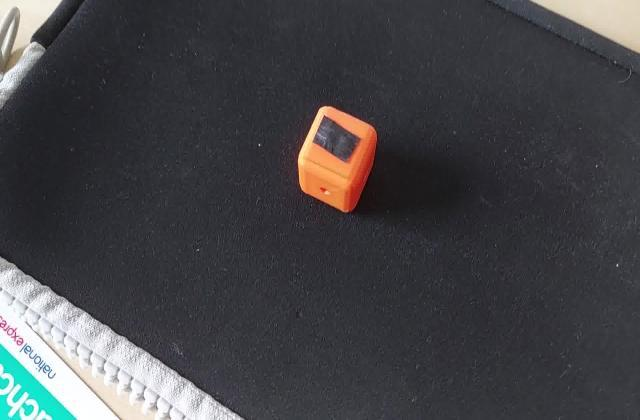black: (313, 121, 368, 164)
sticker: (293, 104, 378, 217)
